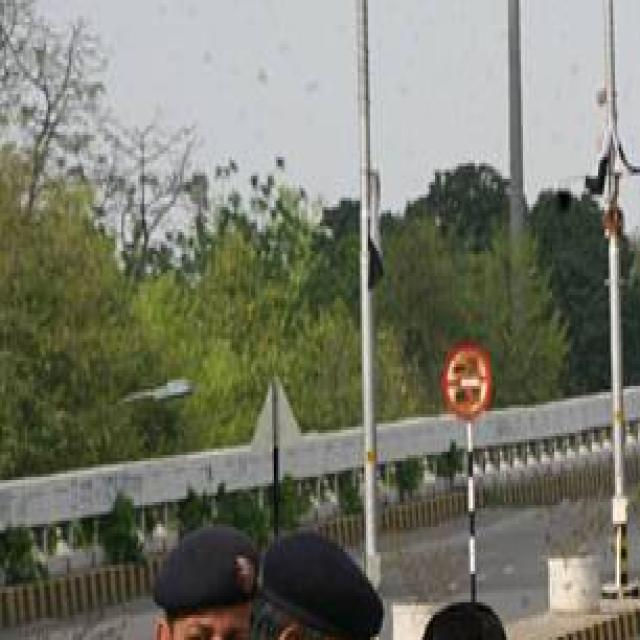bike: (631, 633, 640, 640)
